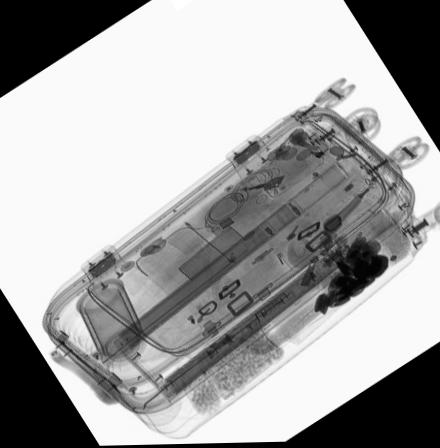Lighter: (267, 127, 306, 161)
